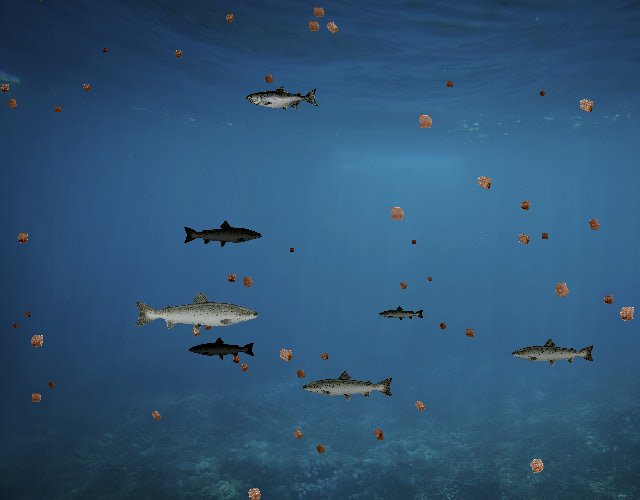Fish: (132, 289, 261, 335), (301, 370, 395, 404), (510, 337, 596, 368), (182, 220, 263, 249), (246, 86, 319, 112), (189, 336, 257, 361), (378, 305, 425, 322)
Pellet: (612, 298, 640, 328), (272, 342, 299, 369), (320, 16, 344, 40), (240, 480, 268, 500), (2, 93, 23, 114), (220, 9, 239, 28), (78, 79, 94, 95), (536, 88, 549, 101), (21, 309, 33, 321)
